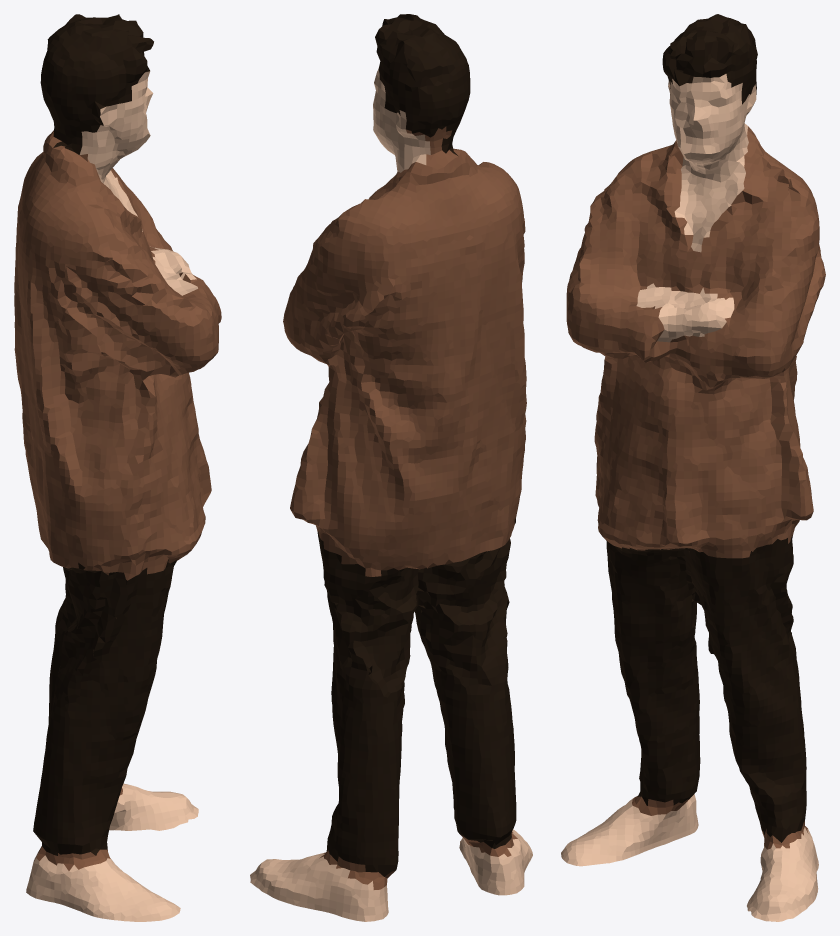
Rendered from antoine.glb.
The picture shows the model from 3 angles, left to right: view 1: azimuth 30°, elevation 25°; view 2: azimuth 150°, elevation 25°; view 3: azimuth 270°, elevation 25°; orthographic projection. The views are drawn at different scales.
Visible parts, largest first — view 1: Model; view 2: Model; view 3: Model.
Part boxes in pixels (x1,y1,x2,y2): Model: [14, 14, 221, 921]; Model: [250, 14, 532, 921]; Model: [561, 14, 825, 921].
Size of the model in its own units: 1.03 by 3.85 by 1.1.
